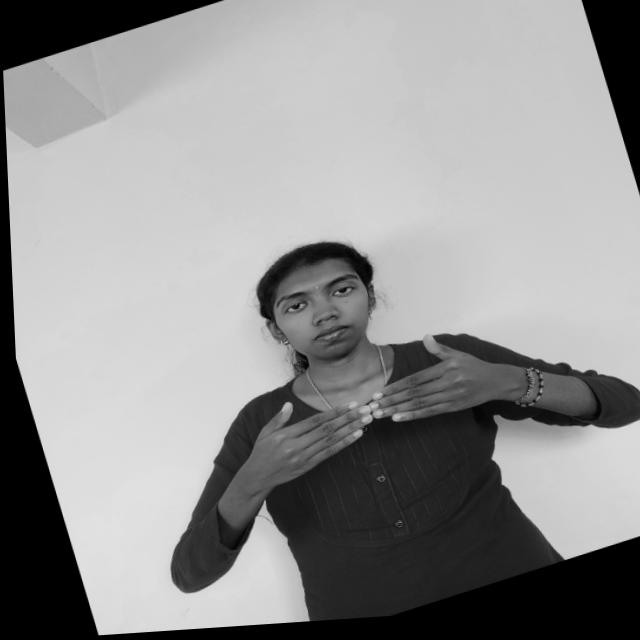Night: (200, 312, 527, 506)
